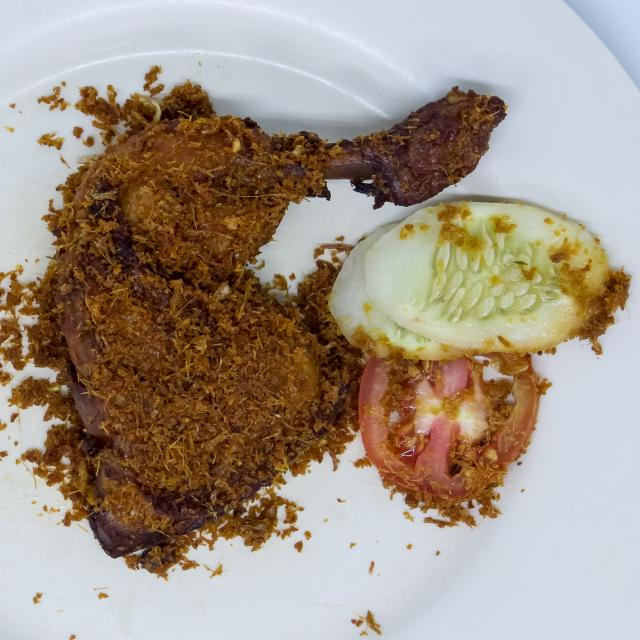Ayam-Goreng-Lengkuas: (28, 70, 520, 565)
